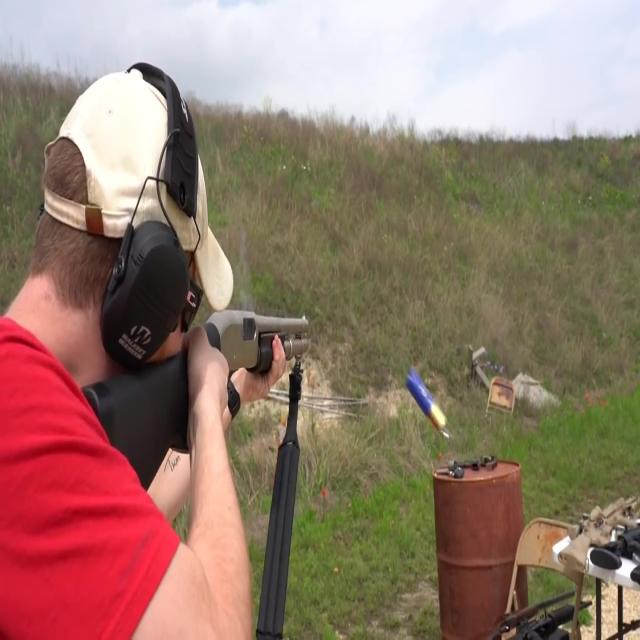Weapon: (46, 296, 373, 495), (434, 578, 640, 640), (555, 491, 640, 587), (393, 362, 457, 436), (433, 445, 517, 495)
